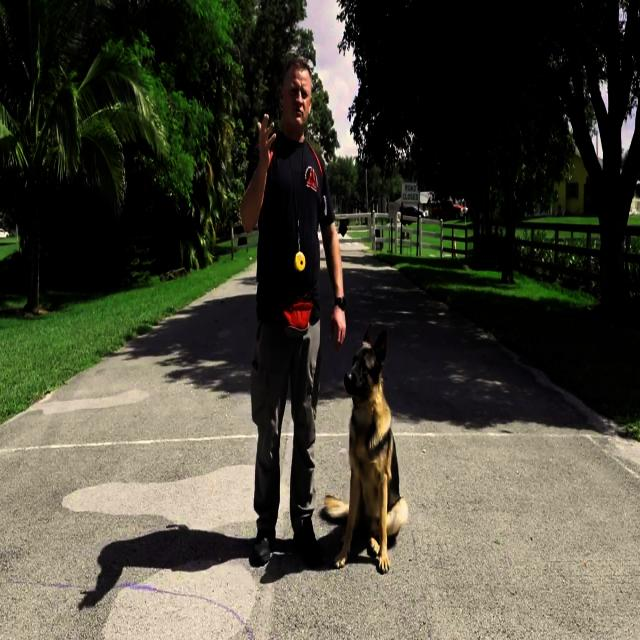Unleashed_Dog: (269, 310, 409, 574)
